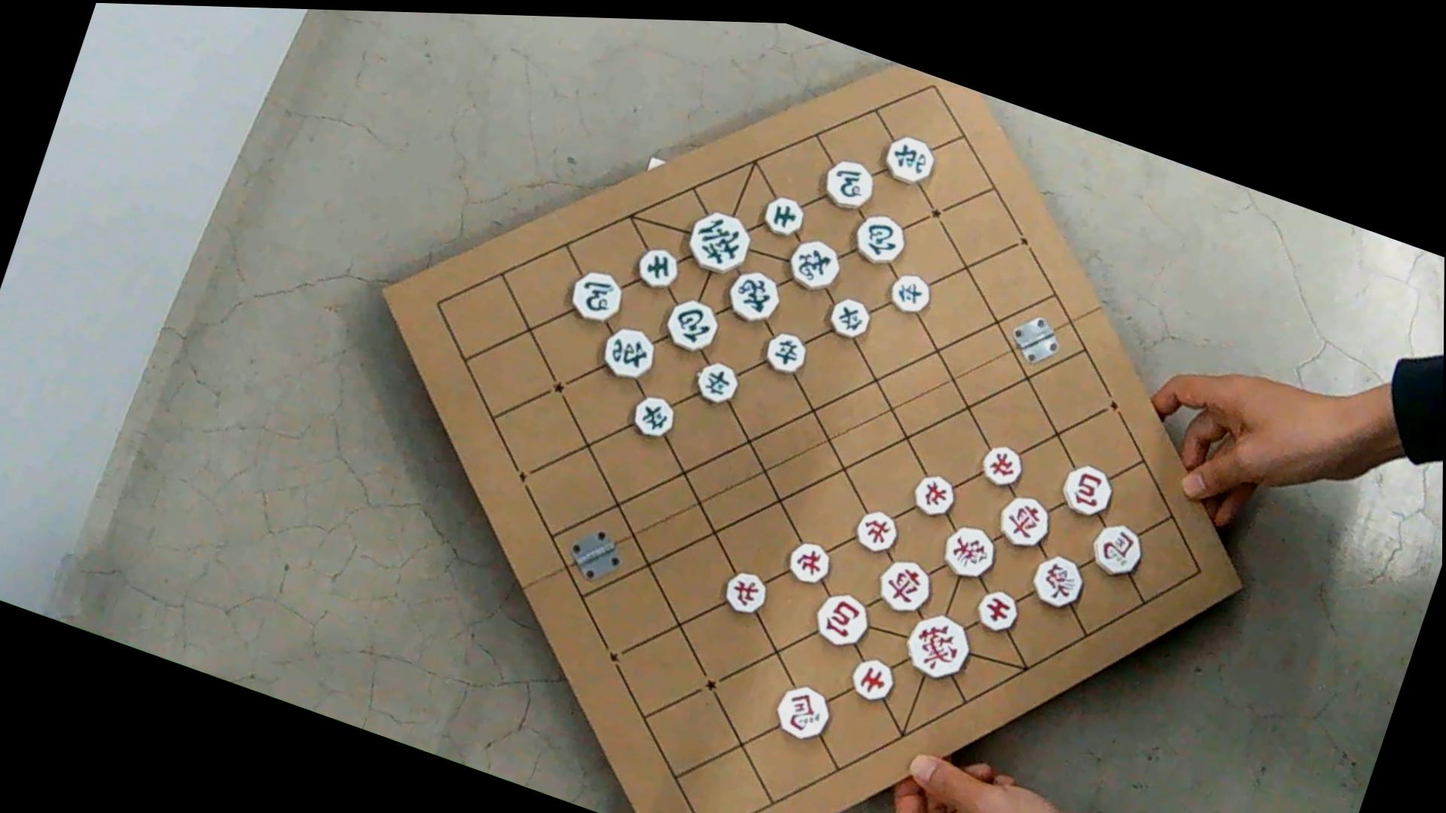cha_green: (596, 321, 660, 385), (879, 131, 938, 189)
cha_red: (993, 489, 1055, 554), (873, 553, 935, 618)
jol_green: (692, 357, 743, 407), (628, 391, 678, 441), (761, 328, 810, 377), (886, 269, 934, 317), (825, 294, 873, 341)
jol_red: (783, 536, 835, 589), (908, 469, 959, 520), (851, 505, 901, 557), (721, 566, 770, 617), (977, 441, 1025, 490)
ma_green: (565, 264, 627, 327), (819, 154, 879, 215)
ma_red: (770, 679, 834, 745), (1088, 517, 1148, 581)
po_green: (660, 293, 721, 356), (850, 208, 909, 269)
po_red: (810, 587, 874, 652), (1057, 459, 1117, 521)
sa_green: (633, 242, 682, 293), (761, 193, 807, 239)
sa_red: (848, 653, 898, 705), (974, 585, 1022, 636)
sang_green: (722, 264, 783, 327), (783, 233, 844, 295)
sang_red: (939, 520, 1000, 583), (1028, 550, 1088, 612)
wang_green: (682, 204, 755, 280)
wang_red: (900, 606, 976, 686)
